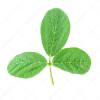Soyabean leaf: (40, 8, 71, 57), (6, 51, 48, 79), (52, 47, 91, 75)
